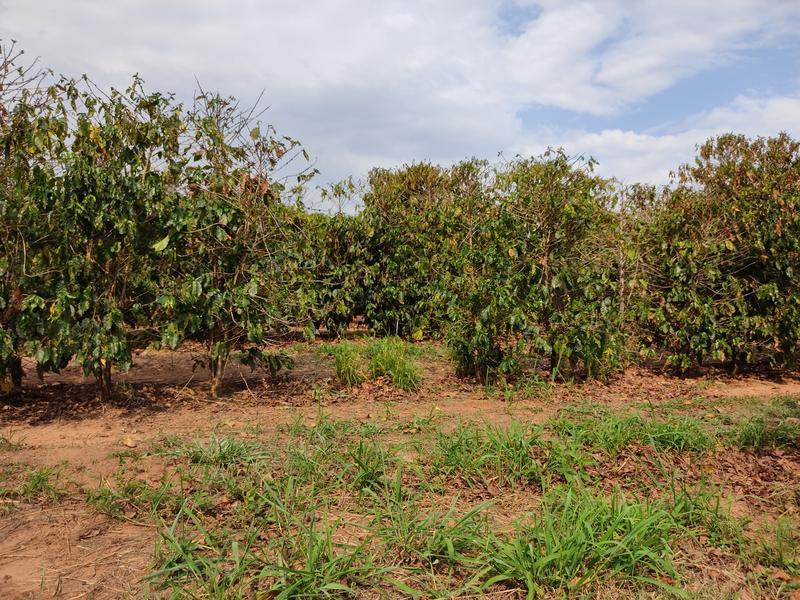coffee: (172, 87, 285, 401), (55, 95, 166, 414), (695, 132, 800, 384), (508, 149, 602, 395), (428, 168, 521, 389), (655, 186, 738, 406), (579, 177, 661, 393)
